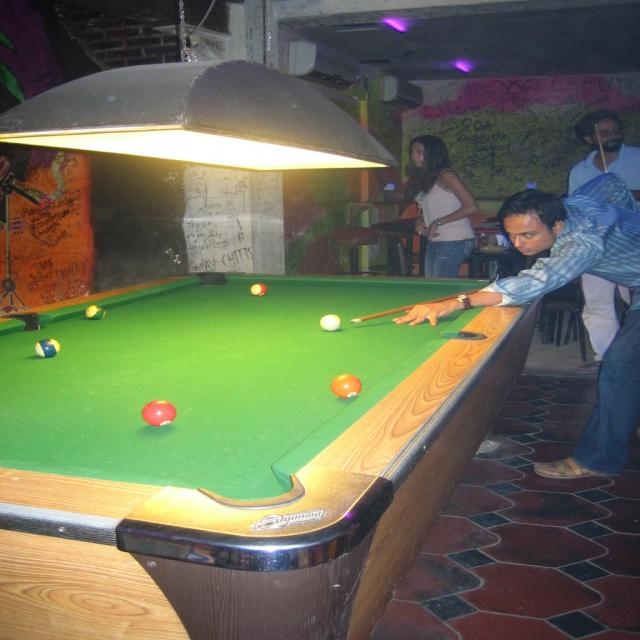Ball: (141, 400, 177, 426), (331, 373, 362, 398), (34, 336, 64, 359), (320, 312, 344, 331), (84, 306, 109, 321), (250, 284, 272, 297)
Billiard table: (0, 271, 544, 640)
